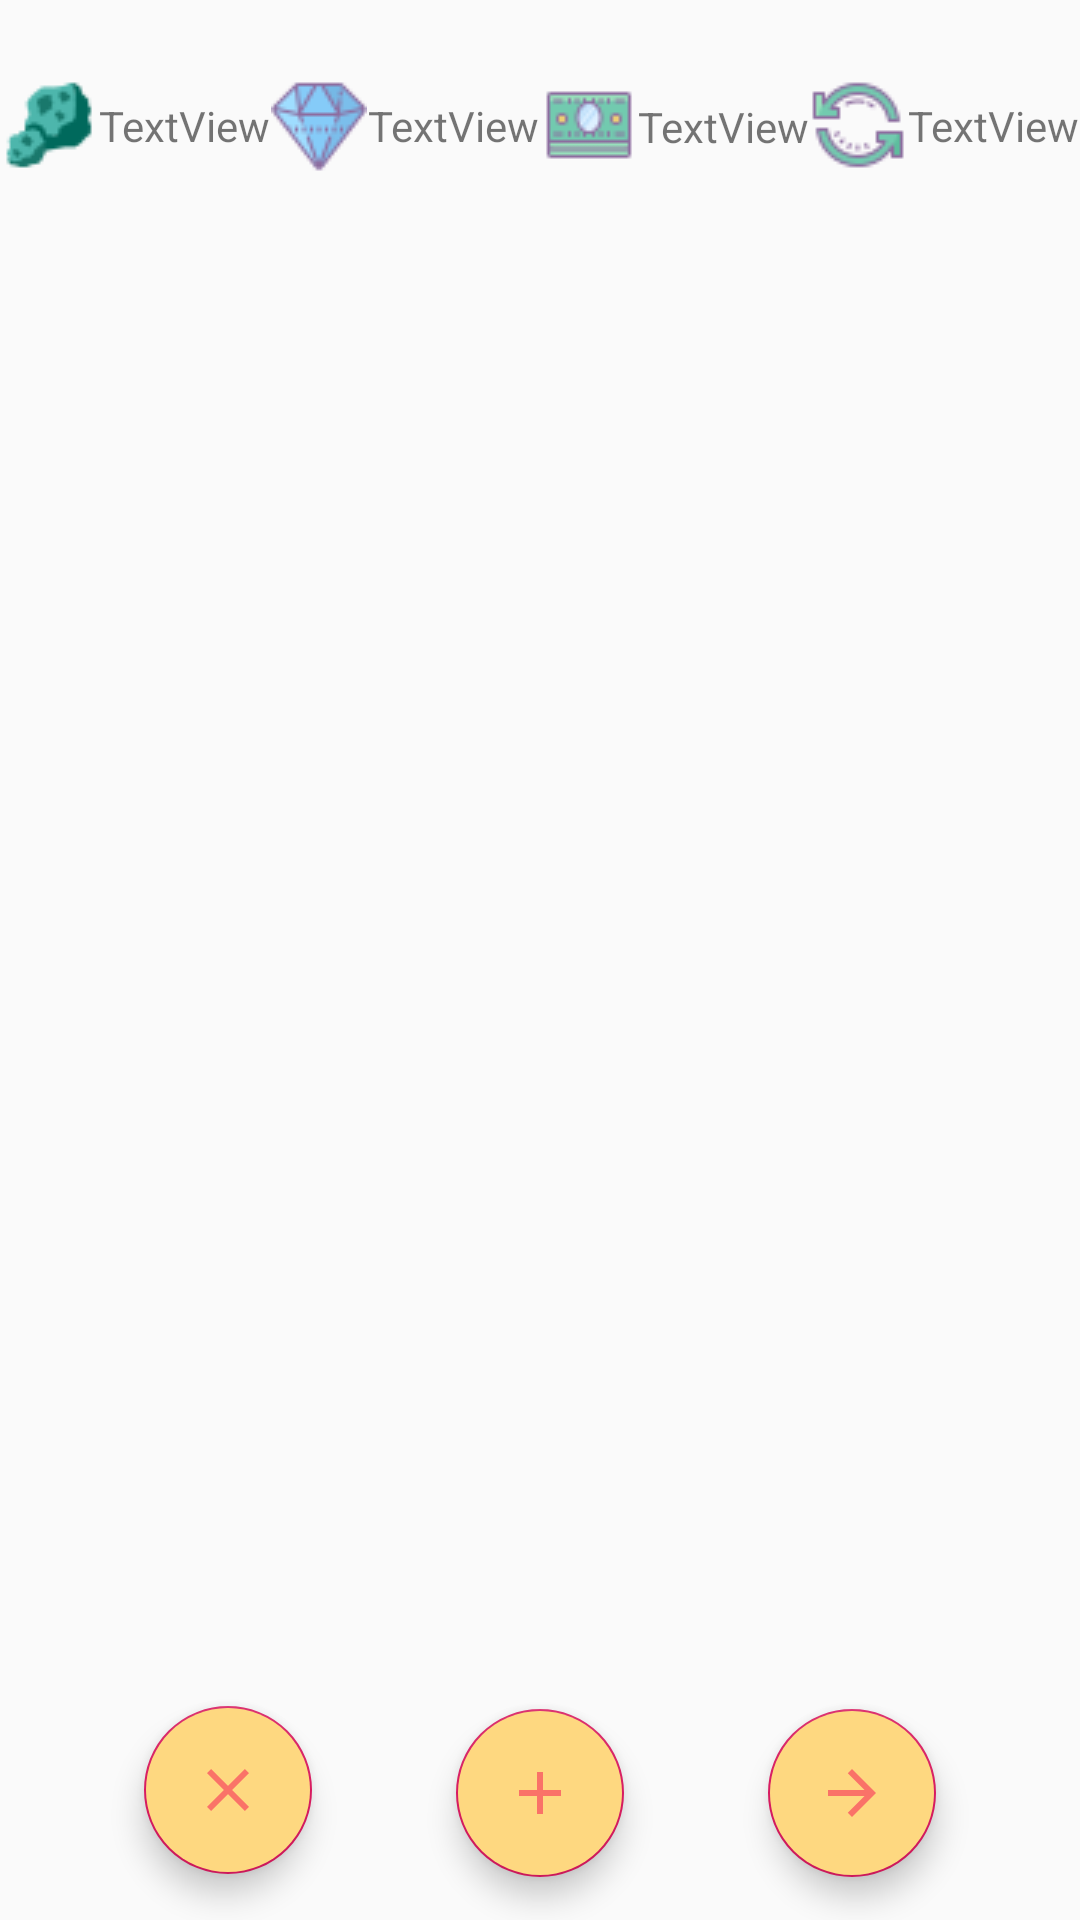

Icons on this 1080w x 1920h Android screen, each with its box as (x1, y1, x2, y2):
add coral: (456, 1709, 624, 1877)
arrow forward coral: (768, 1709, 936, 1877)
close: (144, 1706, 312, 1874)
money: (546, 91, 632, 159)
round: (812, 82, 904, 168)
